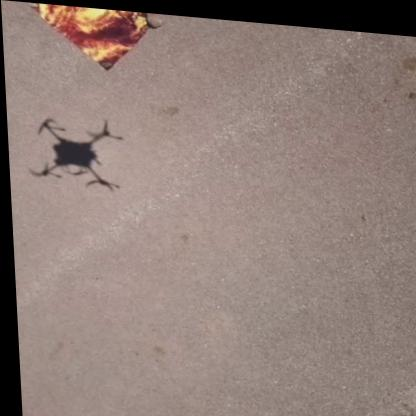fire-poster: (23, 2, 167, 73)
